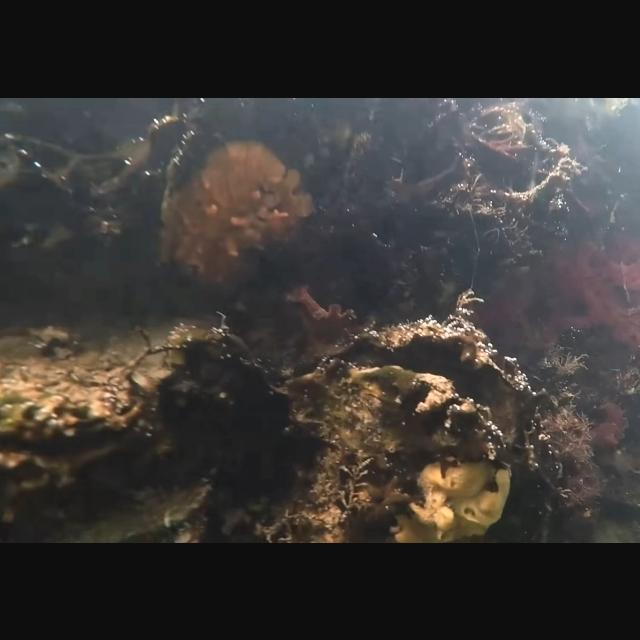Oyster-Closed: (158, 129, 314, 301)
Oyster-Open: (286, 318, 522, 542), (0, 315, 226, 490), (70, 482, 212, 542)
